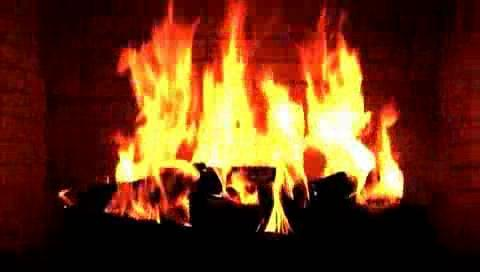fire: (122, 24, 402, 222)
